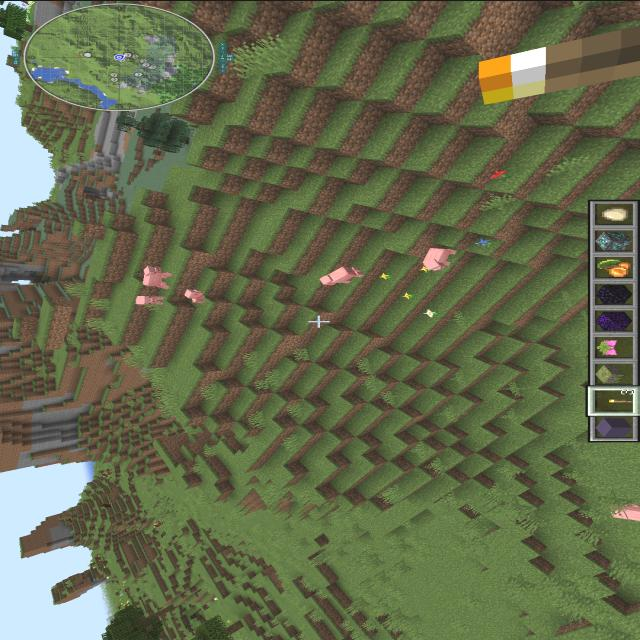pig: (316, 263, 369, 287), (419, 244, 461, 274), (138, 262, 174, 292), (605, 500, 640, 522), (180, 287, 211, 307), (130, 294, 168, 306)
